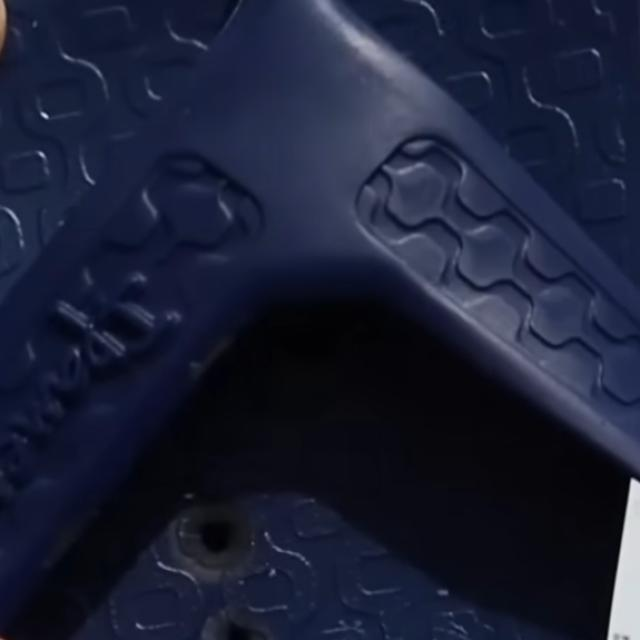bullets: (171, 493, 257, 579), (197, 604, 277, 640)
